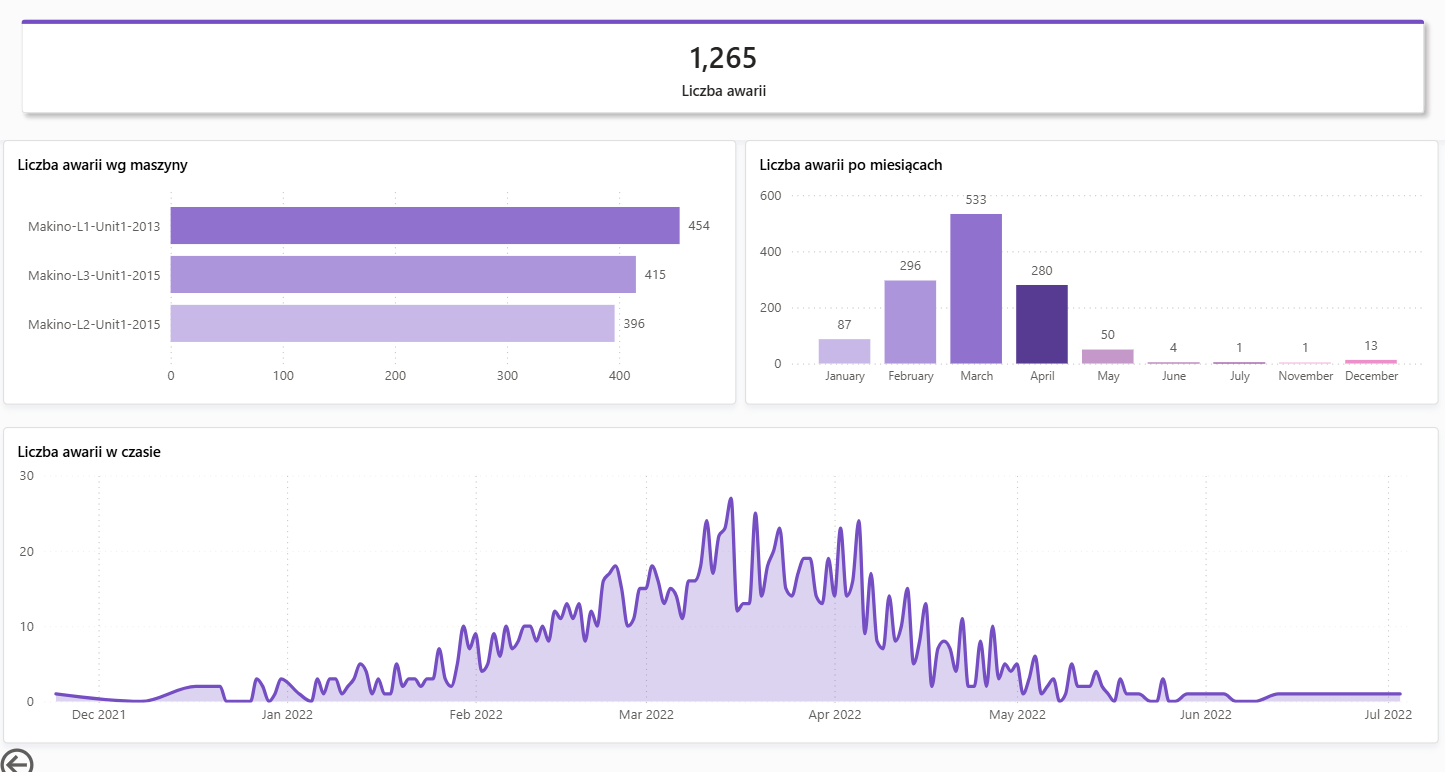

The dashboard page shown, as its layout file describes it:
{"tool":"powerbi","page":{"name":"Analiza awarii","canvas":[1320,720],"ordinal":1},"visuals":[{"type":"cardVisual","fields":{"Data":["Miary.Liczba awarii"]},"box":[0,0,1320,133.4],"z":0},{"type":"barChart","title":"Liczba awarii wg maszyny","fields":{"Category":["oee_cleaned.machine_id"],"Y":["Miary.Liczba awarii"]},"box":[7,133.4,665,239.7],"z":1000},{"type":"lineChart","title":"Liczba awarii w czasie","fields":{"Y":["Miary.Liczba awarii"],"Category":["oee_cleaned.date"]},"box":[7,393.2,1301.9,286.9],"z":2000},{"type":"columnChart","title":"Liczba awarii po miesiącach","fields":{"Category":["oee_cleaned.month_name"],"Y":["Miary.Liczba awarii"]},"box":[680.1,133.4,628.9,239.7],"z":3000},{"type":"actionButton","box":[0,679.9,100.2,39.9],"z":4000}]}

Visuals, with their boxes in screenshot pixels (x1, y1, x2, y2), scaled from the page's 1320x720 canvas onto the 1445x772 screenshot:
cardVisual - Miary.Liczba awarii: bbox(0, 0, 1444, 143)
"Liczba awarii wg maszyny" barChart: bbox(8, 143, 736, 400)
"Liczba awarii w czasie" lineChart: bbox(8, 422, 1433, 729)
"Liczba awarii po miesiącach" columnChart: bbox(745, 143, 1433, 400)
actionButton: bbox(0, 729, 110, 771)
